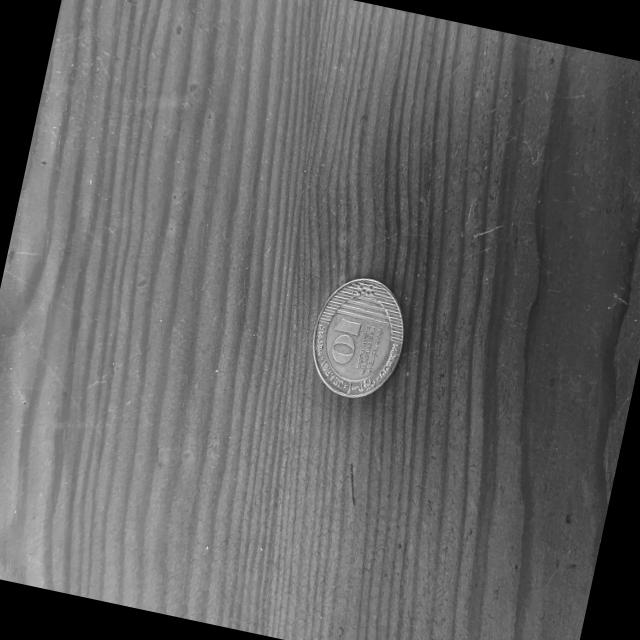10-shekel: (295, 268, 422, 415)
